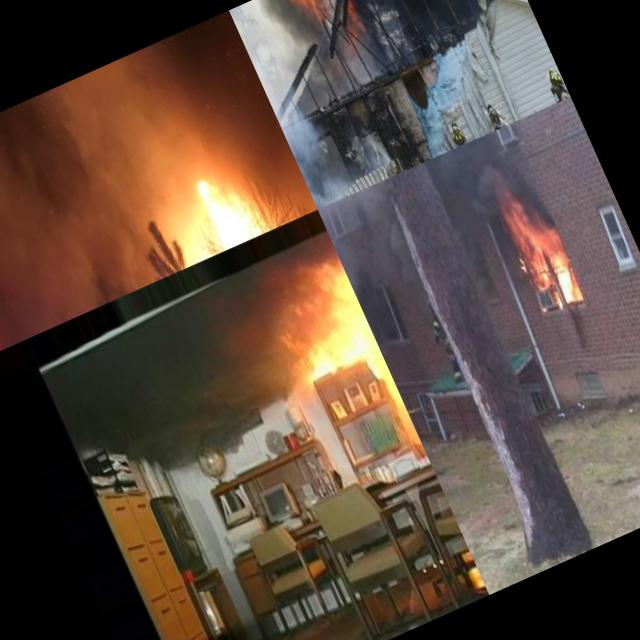fire: (256, 248, 408, 448), (158, 150, 318, 269), (502, 193, 593, 324), (453, 544, 488, 598), (282, 0, 347, 21)
smoke: (0, 82, 157, 353), (69, 32, 243, 220), (229, 0, 366, 199), (194, 10, 290, 164), (318, 183, 425, 315), (458, 122, 522, 251)
